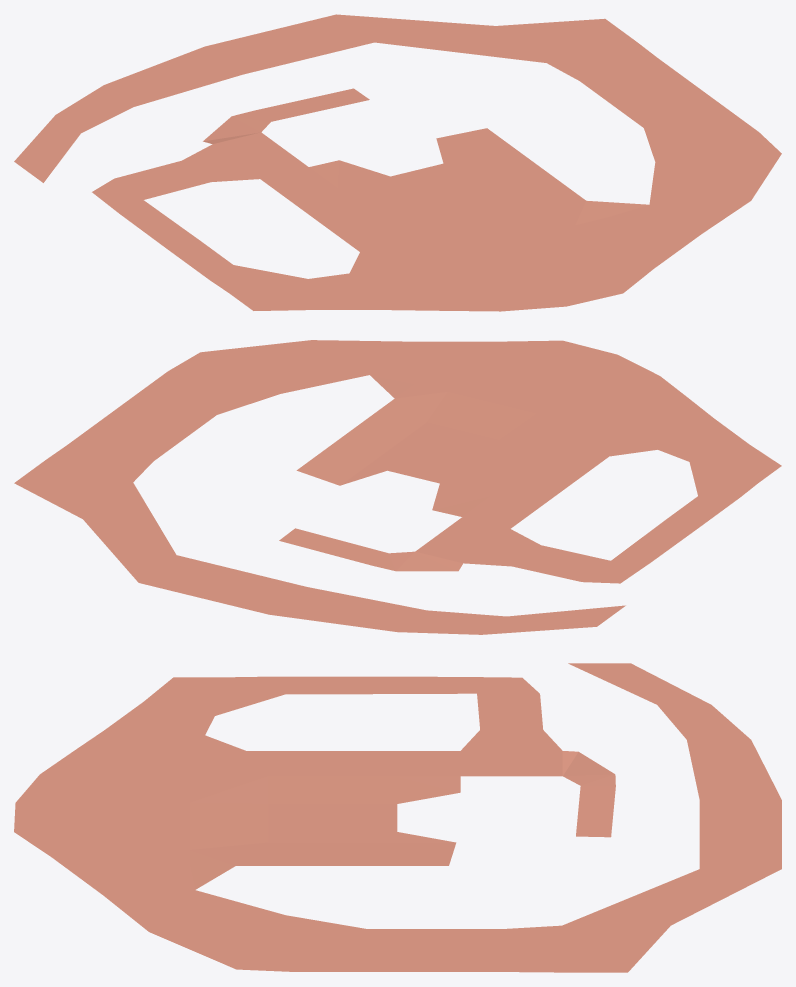
The model's file is navmesh.glb.
The picture shows the model from 3 angles, top to bottom: view 1: azimuth 30°, elevation 25°; view 2: azimuth 150°, elevation 25°; view 3: azimuth 270°, elevation 25°; orthographic projection. The views are drawn at different scales.
Parts seen in each view (by area): view 1: navmesh; view 2: navmesh; view 3: navmesh.
Boxes of the visible parts, x1,y1,x2,y2 form: navmesh: (14, 14, 781, 311); navmesh: (14, 340, 781, 634); navmesh: (14, 663, 781, 972).
Bounding box in the file's own units: 11.34 × 0.0532 × 11.9.
